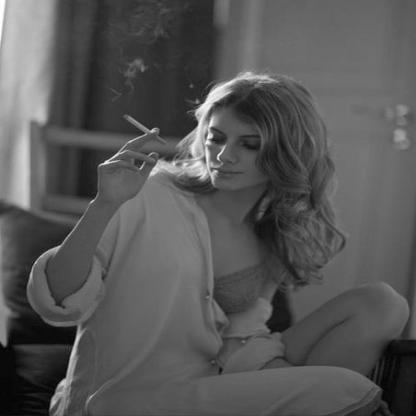smoking: (122, 115, 167, 146)
